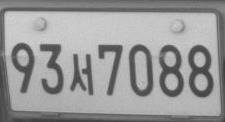0: (127, 43, 154, 97)
3: (39, 42, 64, 95)
7: (97, 44, 123, 95)
8: (186, 43, 214, 98), (157, 43, 184, 98)
9: (10, 41, 35, 94)
서: (68, 53, 94, 96)
